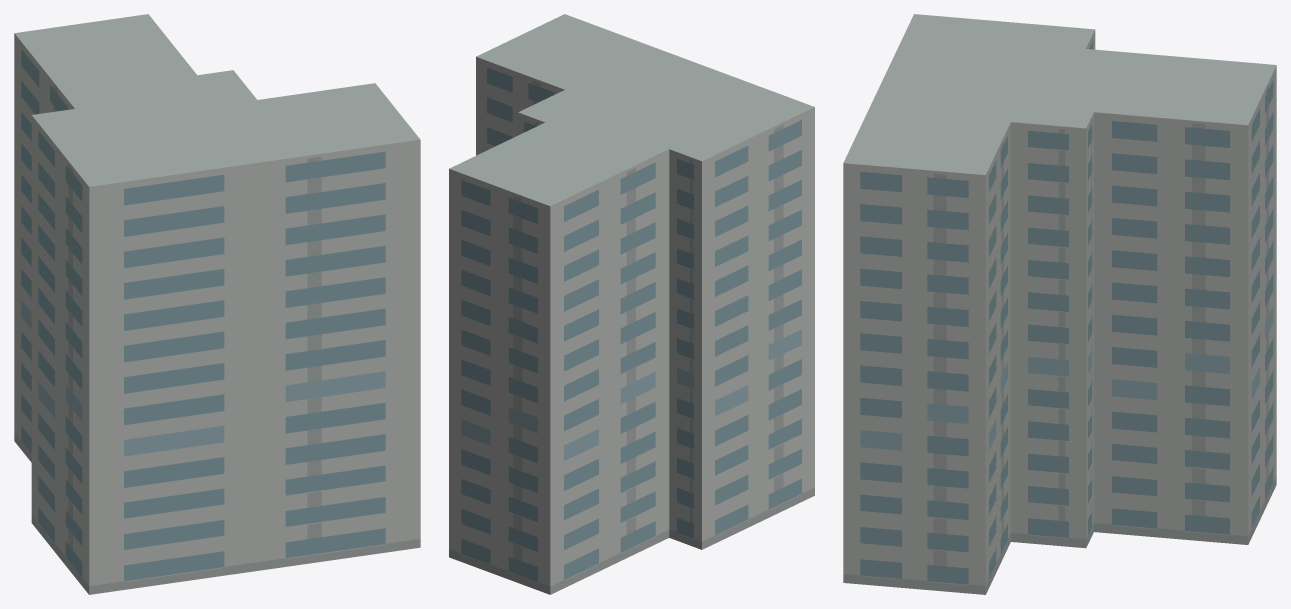
Rendered from residential-59bac9d8-c634-4593-a048-9e4734d583ae.glb.
3 views of the same model, side by side, from view 1: azimuth 30°, elevation 25°; view 2: azimuth 150°, elevation 25°; view 3: azimuth 270°, elevation 25° (orthographic). The views are drawn at different scales.
Visible parts, largest first — view 1: residential-59bac9d8-c634-4593-a048-9e4734d583ae.tmp; view 2: residential-59bac9d8-c634-4593-a048-9e4734d583ae.tmp; view 3: residential-59bac9d8-c634-4593-a048-9e4734d583ae.tmp.
Boxes of the visible parts, x1=… form: residential-59bac9d8-c634-4593-a048-9e4734d583ae.tmp: x1=14, y1=14, x2=420, y2=594; residential-59bac9d8-c634-4593-a048-9e4734d583ae.tmp: x1=449, y1=14, x2=814, y2=594; residential-59bac9d8-c634-4593-a048-9e4734d583ae.tmp: x1=843, y1=14, x2=1276, y2=594.
Size of the model in its own units: 29.65 by 36 by 33.7.
